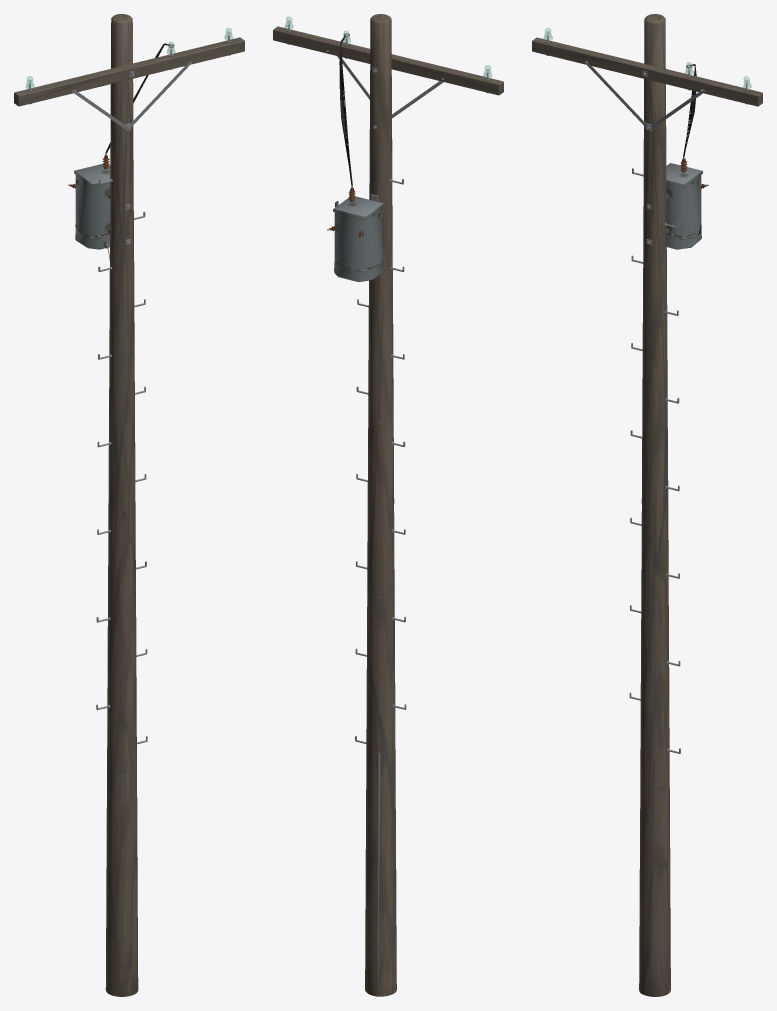
File: utility-pole.glb
The picture shows the model from 3 angles, left to right: view 1: azimuth 30°, elevation 25°; view 2: azimuth 150°, elevation 25°; view 3: azimuth 330°, elevation 25°; orthographic projection.
Visible parts, largest first — view 1: utility-pole_shaft, utility-pole_body; view 2: utility-pole_shaft, utility-pole_body; view 3: utility-pole_shaft, utility-pole_body.
Boxes of the visible parts, x1,y1,x2,y2 form: utility-pole_shaft: (105,14,138,996); utility-pole_body: (14,35,244,744); utility-pole_shaft: (365,14,396,996); utility-pole_body: (273,24,503,996); utility-pole_shaft: (639,14,670,996); utility-pole_body: (532,35,762,753).
Size of the model in its own units: 2.44 by 10 by 0.9041.
Materials: 3 (2 with a texture image).
